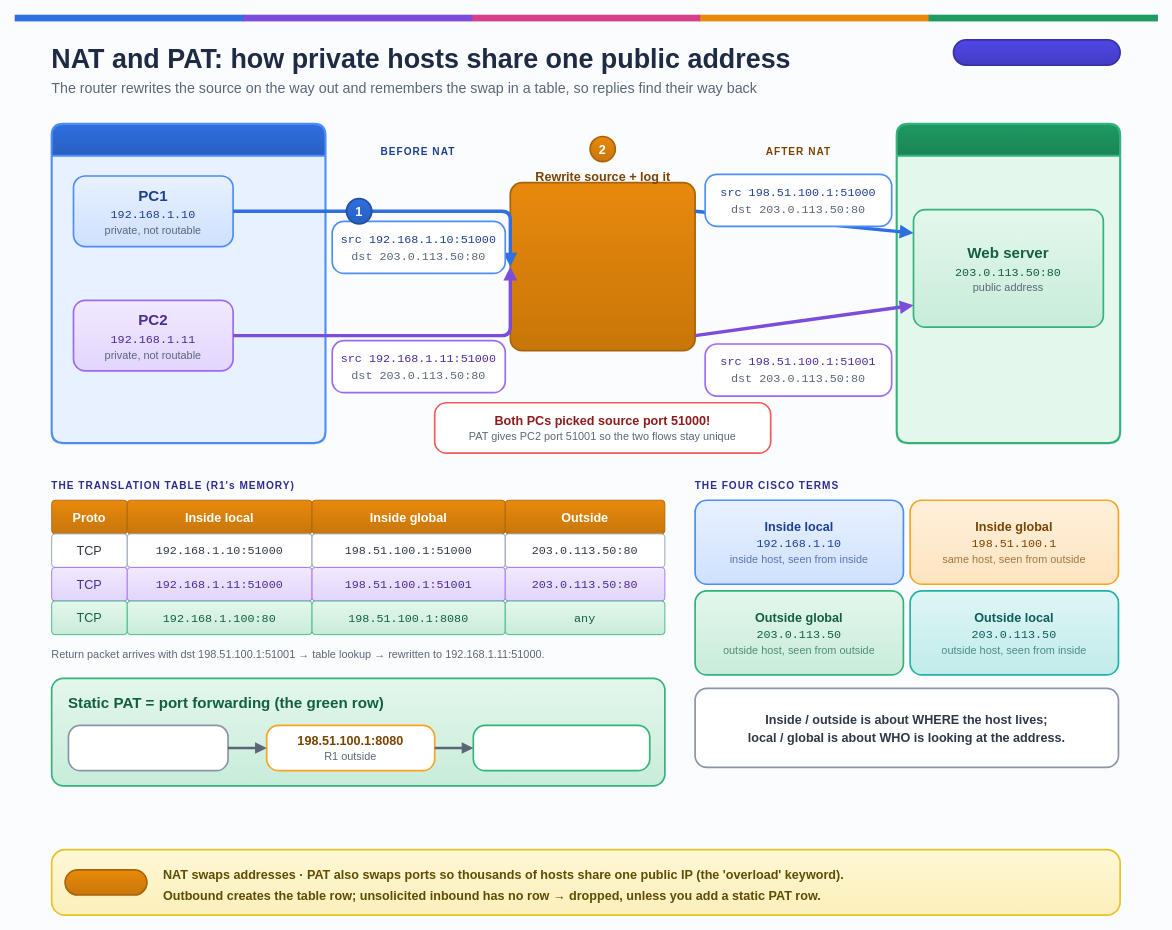
The diagram is 1172 pixels wide and 930 high, and some of its shapes have lost their labels. The box of each missing label's shape, as (x1, y1, x2, y2) in pixels:
192.168.1.100:80 internal web server: (472, 724, 650, 771)
INSIDE · 192.168.1.0/24: (50, 122, 326, 444)
Internet client connects to :8080: (67, 724, 228, 771)
OUTSIDE · public internet: (895, 122, 1121, 444)
R1 · NAT border inside Gi0/0 192.168.1.1 outside Gi0/1 198.51.100.1: (509, 181, 696, 351)
REMEMBER: (64, 869, 147, 895)
STAGE 05 · NAT / PAT: (952, 39, 1121, 66)
